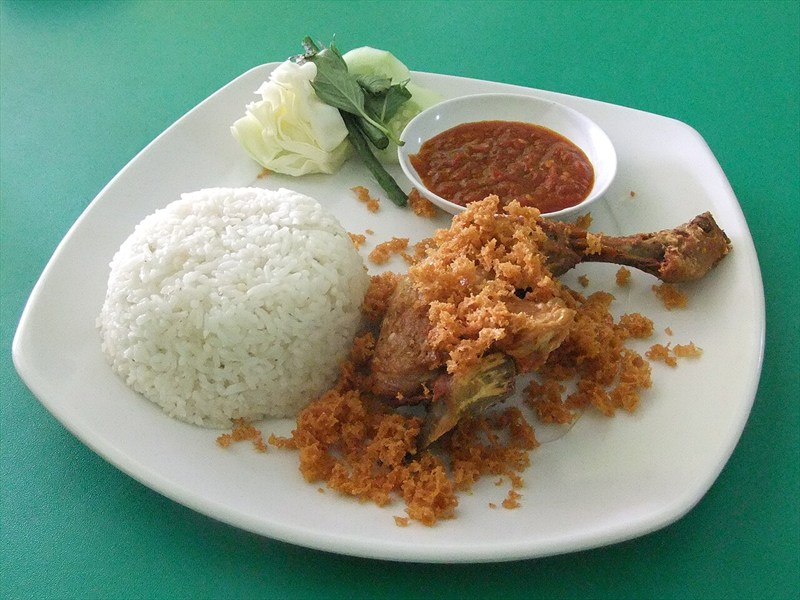Ayam Goreng: (122, 89, 723, 536)
